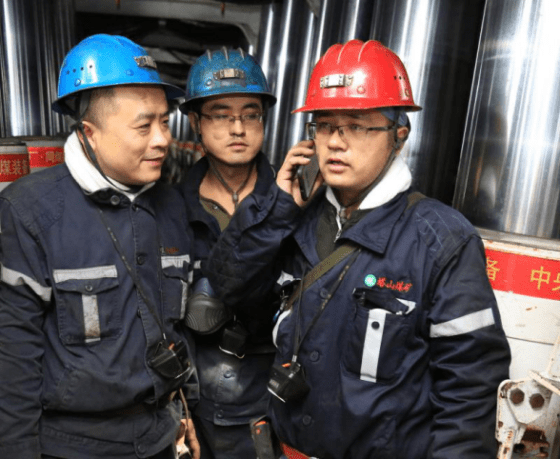helmet: (44, 32, 184, 182), (299, 40, 433, 189), (178, 43, 295, 163)
